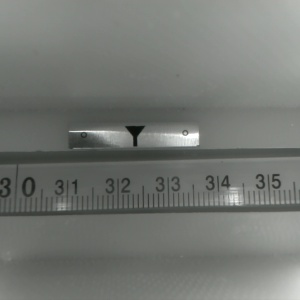0: (21, 177, 36, 197)
1: (70, 179, 77, 194)
2: (120, 178, 130, 193)
3: (0, 177, 11, 198), (205, 175, 215, 191), (170, 176, 180, 192), (154, 177, 164, 193), (53, 180, 63, 195), (104, 178, 114, 193), (254, 174, 264, 189)
4: (220, 176, 230, 190)
5: (270, 173, 280, 189)
finger: (123, 126, 145, 147)
